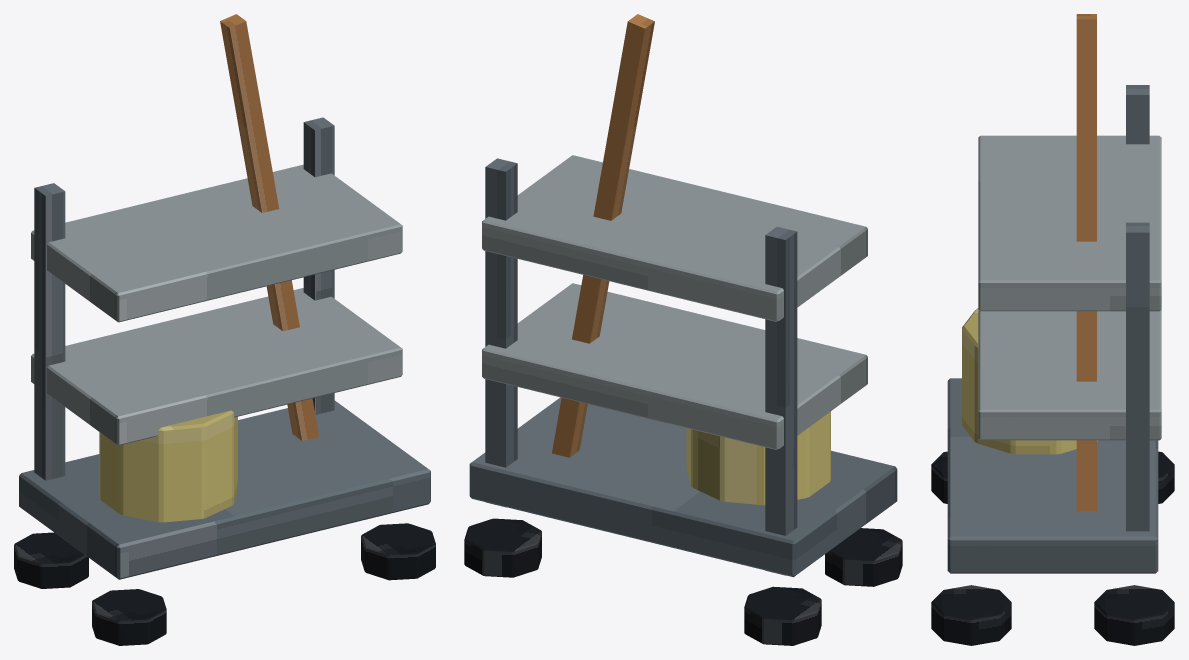
File: maintenance_cleaning_cart.glb
3 views of the same model, side by side, from view 1: azimuth 30°, elevation 25°; view 2: azimuth 150°, elevation 25°; view 3: azimuth 270°, elevation 25° (orthographic). The views are drawn at different scales.
Visible parts, largest first — view 1: Shelf_1.2, Shelf_0.78, CartDeck, Bucket, Post_-0.48, MopHandle, Wheel_0.48_-0.24, Wheel_-0.48_-0.24, Wheel_-0.48_0.24, Post_0.48; view 2: CartDeck, Shelf_1.2, Shelf_0.78, MopHandle, Post_-0.48, Post_0.48, Bucket, Wheel_0.48_0.24, Wheel_-0.48_0.24, Wheel_-0.48_-0.24; view 3: Shelf_1.2, CartDeck, Shelf_0.78, MopHandle, Post_0.48, Wheel_0.48_0.24, Wheel_0.48_-0.24, Bucket, Post_-0.48, Wheel_-0.48_0.24, Wheel_-0.48_-0.24.
Boxes of the visible parts, bbox=[...] form: Shelf_1.2: bbox=[31, 164, 402, 322]; Shelf_0.78: bbox=[31, 288, 402, 445]; CartDeck: bbox=[19, 400, 430, 579]; Bucket: bbox=[99, 410, 237, 522]; Post_-0.48: bbox=[34, 183, 65, 480]; MopHandle: bbox=[220, 14, 319, 440]; Wheel_0.48_-0.24: bbox=[361, 523, 435, 580]; Wheel_-0.48_-0.24: bbox=[92, 589, 166, 645]; Wheel_-0.48_0.24: bbox=[14, 532, 88, 588]; Post_0.48: bbox=[303, 117, 334, 414]; CartDeck: bbox=[469, 397, 897, 577]; Shelf_1.2: bbox=[482, 155, 867, 321]; Shelf_0.78: bbox=[482, 283, 867, 450]; MopHandle: bbox=[552, 14, 654, 457]; Post_-0.48: bbox=[765, 226, 797, 575]; Post_0.48: bbox=[485, 158, 517, 507]; Bucket: bbox=[686, 411, 830, 505]; Wheel_0.48_0.24: bbox=[464, 518, 541, 577]; Wheel_-0.48_0.24: bbox=[744, 586, 821, 645]; Wheel_-0.48_-0.24: bbox=[825, 528, 902, 586]; Shelf_1.2: bbox=[978, 135, 1161, 311]; CartDeck: bbox=[947, 378, 1158, 573]; Shelf_0.78: bbox=[978, 309, 1161, 440]; MopHandle: bbox=[1076, 14, 1096, 511]; Post_0.48: bbox=[1126, 222, 1149, 531]; Wheel_0.48_0.24: bbox=[1094, 585, 1174, 645]; Wheel_0.48_-0.24: bbox=[931, 585, 1011, 645]; Bucket: bbox=[962, 308, 1097, 454]; Post_-0.48: bbox=[1126, 85, 1149, 144]; Wheel_-0.48_0.24: bbox=[1158, 451, 1174, 503]; Wheel_-0.48_-0.24: bbox=[931, 451, 947, 503].
Size of the model in its own units: 1.2 by 1.81 by 0.7169.
Materials: 1 (1 with a texture image).
